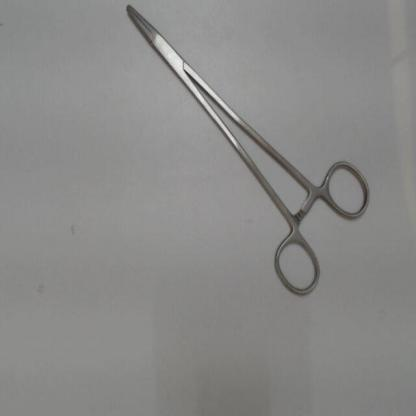8 Mayo Needle Holder: (108, 2, 376, 309)
